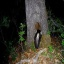skunk: (34, 30, 42, 48)
